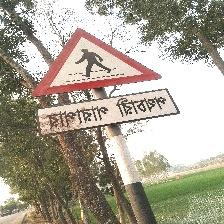Pedestrian-crossing: (32, 26, 178, 136)
